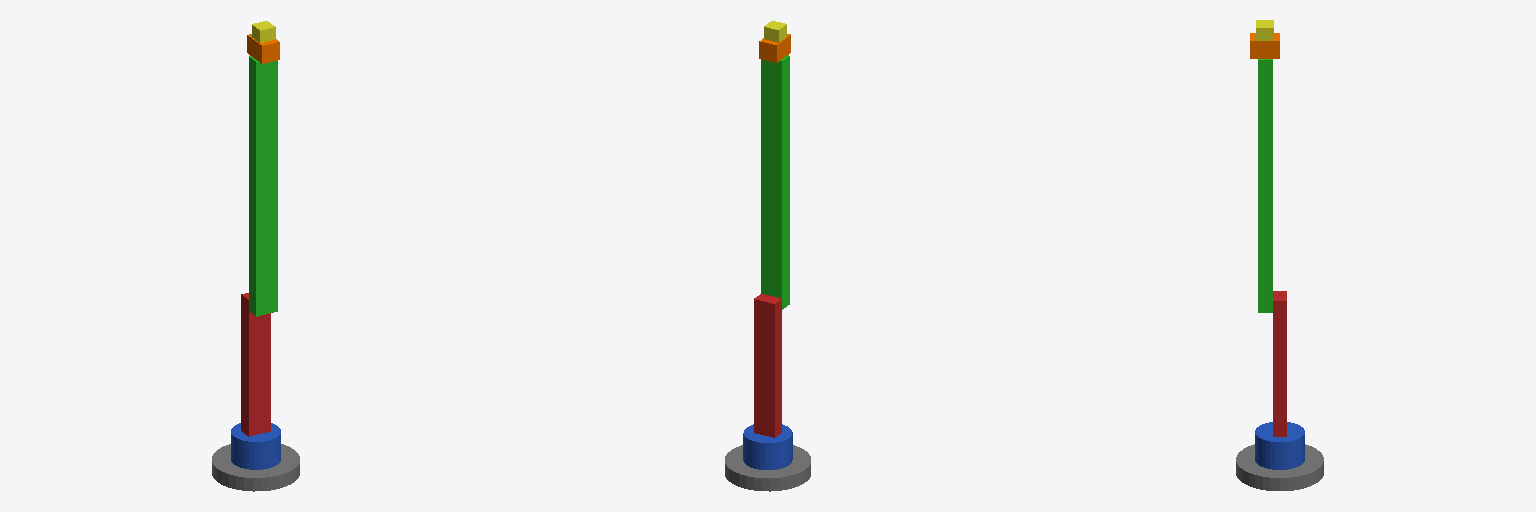
URDF robot description (arm):
<?xml version="1.0"?>
<robot name="arm">

  <material name="gray">
    <color rgba="0.5 0.5 0.5 1.0"/>
  </material>
  
  <material name="blue">
    <color rgba="0.2 0.4 0.8 1.0"/>
  </material>
  
  <material name="red">
    <color rgba="0.8 0.2 0.2 1.0"/>
  </material>
  
  <material name="green">
    <color rgba="0.2 0.8 0.2 1.0"/>
  </material>
  
  <material name="orange">
    <color rgba="1.0 0.5 0.0 1.0"/>
  </material>
  
  <material name="yellow">
    <color rgba="0.9 0.9 0.2 1.0"/>
  </material>
  
  <material name="purple">
    <color rgba="0.6 0.2 0.8 1.0"/>
  </material>

  <link name="plate">
    <visual>
      <geometry>
        <cylinder length="0.029471" radius="0.0885"/>
      </geometry>
      <material name="gray"/>
    </visual>
    <collision>
      <geometry>
        <cylinder length="0.029471" radius="0.0885"/>
      </geometry>
    </collision>
    <inertial>
      <mass value="0.5"/>
      <origin xyz="0 0 0" rpy="0 0 0"/>
      <inertia ixx="0.001" ixy="0.0" ixz="0.0" iyy="0.001" iyz="0.0" izz="0.001"/>
    </inertial>
  </link>

  <link name="shoulder_base">
    <visual>
      <geometry>
        <cylinder length="0.061043" radius="0.05"/>
      </geometry>
      <origin rpy="0 0 0" xyz="0 0 0.0305215"/>
      <material name="blue"/>
    </visual>
    <collision>
      <geometry>
        <cylinder length="0.061043" radius="0.05"/>
      </geometry>
      <origin rpy="0 0 0" xyz="0 0 0.0305215"/>
    </collision>
    <inertial>
      <mass value="0.8"/>
      <origin xyz="0 0 0.0305215" rpy="0 0 0"/>
      <inertia ixx="0.002" ixy="0.0" ixz="0.0" iyy="0.002" iyz="0.0" izz="0.001"/>
    </inertial>
  </link>

  <joint name="shoulder_pan" type="revolute">
    <parent link="plate"/>
    <child link="shoulder_base"/>
    <origin xyz="0 0 0.0147355" rpy="0 0 0"/>
    <axis xyz="0 0 1"/>
    <limit lower="-3.14" upper="3.14" effort="10.0" velocity="2.0"/>
    <dynamics damping="0.1" friction="0.05"/>
  </joint>

  <link name="shoulder_arm">
    <visual>
      <geometry>
        <box size="0.05 0.03 0.3"/>
      </geometry>
      <origin xyz="0 0 0.15" rpy="0 0 0"/>
      <material name="red"/>
    </visual>
    <collision>
      <geometry>
        <box size="0.05 0.03 0.3"/>
      </geometry>
      <origin xyz="0 0 0.15" rpy="0 0 0"/>
    </collision>
    <inertial>
      <mass value="0.6"/>
      <origin xyz="0 0 0.15" rpy="0 0 0"/>
      <inertia ixx="0.0046" ixy="0.0" ixz="0.0" iyy="0.0047" iyz="0.0" izz="0.0003"/>
    </inertial>
  </link>
  
  <joint name="shoulder_tilt" type="revolute">
    <parent link="shoulder_base"/>
    <child link="shoulder_arm"/>
    <origin xyz="0 0 0.061043" rpy="0 0 0"/>
    <axis xyz="0 1 0"/>
    <limit lower="-1.57" upper="1.57" effort="10.0" velocity="2.0"/>
    <dynamics damping="0.1" friction="0.05"/>
  </joint>

  <link name="forearm">
    <visual>
      <geometry>
        <box size="0.05 0.03 0.558"/>
      </geometry>
      <origin xyz="0 0 0.279" rpy="0 0 0"/>
      <material name="green"/>
    </visual>
    <collision>
      <geometry>
        <box size="0.05 0.03 0.558"/>
      </geometry>
      <origin xyz="0 0 0.279" rpy="0 0 0"/>
    </collision>
    <inertial>
      <mass value="0.5"/>
      <origin xyz="0 0 0.279" rpy="0 0 0"/>
      <inertia ixx="0.013" ixy="0.0" ixz="0.0" iyy="0.013" iyz="0.0" izz="0.0002"/>
    </inertial>
  </link>

  <joint name="elbow" type="revolute">
    <parent link="shoulder_arm"/>
    <child link="forearm"/>
    <origin xyz="0 -0.03 0.275" rpy="0 0 0"/>
    <axis xyz="0 1 0"/>
    <limit lower="-3.14" upper="3.14" effort="8.0" velocity="2.0"/>
    <dynamics damping="0.1" friction="0.05"/>
  </joint>

  <link name="forearm_tip">
    <visual>
        <geometry>
            <sphere radius="0.01"/>
        </geometry>
        <material name="purple"/>
    </visual>
    <collision>
        <geometry>
            <sphere radius="0.01"/>
        </geometry>
    </collision>
    <inertial>
        <mass value="0.001"/>
        <origin xyz="0 0 0" rpy="0 0 0"/>
        <inertia ixx="0.000001" ixy="0.0" ixz="0.0" iyy="0.000001" iyz="0.0" izz="0.000001"/>
    </inertial>
</link>

<joint name="forearm_tip_joint" type="fixed">
    <parent link="forearm"/>
    <child link="forearm_tip"/>
    <origin xyz="0 0 0.558" rpy="0 0 0"/>  <!-- At end of forearm -->
</joint>

  <link name="wrist_pitch_link">
    <visual>
      <geometry>
        <box size="0.04 0.06 0.04"/>
      </geometry>
      <origin xyz="0 0 0.02" rpy="0 0 0"/>
      <material name="orange"/>
    </visual>
    <collision>
      <geometry>
        <box size="0.04 0.06 0.04"/>
      </geometry>
      <origin xyz="0 0 0.02" rpy="0 0 0"/>
    </collision>
    <inertial>
      <mass value="0.2"/>
      <origin xyz="0 0 0.02" rpy="0 0 0"/>
      <inertia ixx="0.0001" ixy="0.0" ixz="0.0" iyy="0.00001" iyz="0.0" izz="0.0001"/>
    </inertial>
  </link>
  
  <joint name="wrist_pitch" type="revolute">
    <parent link="forearm"/>
    <child link="wrist_pitch_link"/>
    <origin xyz="0 0 0.558" rpy="0 0 0"/>
    <axis xyz="0 1 0"/>
    <limit lower="-1.57" upper="1.57" effort="5.0" velocity="3.0"/>
    <dynamics damping="0.05" friction="0.02"/>
  </joint>

  <link name="wrist_roll_link">
    <visual>
      <geometry>
        <box size="0.035 0.035 0.028"/>
      </geometry>
      <origin xyz="0 0 0.014" rpy="0 0 0"/>
      <material name="yellow"/>
    </visual>
    <collision>
      <geometry>
        <box size="0.035 0.035 0.028"/>
      </geometry>
      <origin xyz="0 0 0.014" rpy="0 0 0"/>
    </collision>
    <inertial>
      <mass value="0.15"/>
      <origin xyz="0 0 0.014" rpy="0 0 0"/>
      <inertia ixx="0.00005" ixy="0.0" ixz="0.0" iyy="0.00005" iyz="0.0" izz="0.00004"/>
    </inertial>
  </link>
  
  <joint name="wrist_roll" type="revolute">
    <parent link="wrist_pitch_link"/>
    <child link="wrist_roll_link"/>
    <origin xyz="0 0 0.04" rpy="0 0 0"/>
    <axis xyz="0 0 1"/>
    <limit lower="-3.14" upper="3.14" effort="5.0" velocity="3.0"/>
    <dynamics damping="0.05" friction="0.02"/>
  </joint>

  <link name="end_effector">
    <visual>
      <geometry>
        <cylinder length="0.01" radius="0.02"/>
      </geometry>
      <origin xyz="0 0 0.005" rpy="0 0 0"/>
      <material name="purple"/>
    </visual>
    <collision>
      <geometry>
        <cylinder length="0.01" radius="0.02"/>
      </geometry>
      <origin xyz="0 0 0.005" rpy="0 0 0"/>
    </collision>
    <inertial>
      <mass value="0.05"/>
      <origin xyz="0 0 0.005" rpy="0 0 0"/>
      <inertia ixx="0.00001" ixy="0.0" ixz="0.0" iyy="0.00001" iyz="0.0" izz="0.00001"/>
    </inertial>
  </link>
  
  <joint name="end_effector_mount" type="fixed">
    <parent link="wrist_pitch_link"/>
    <child link="end_effector"/>
    <origin xyz="0 0 0.028" rpy="0 0 0"/>
  </joint>

</robot>

--- Facts derived from the render (not from the file) ---
The picture shows the robot from 3 angles, left to right: view 1: azimuth 30°, elevation 25°; view 2: azimuth 150°, elevation 25°; view 3: azimuth 270°, elevation 25°; orthographic projection.
Robot: arm — 8 links, 7 joints (5 revolute, 2 fixed); root link plate; default pose: every joint at zero.
Links seen in each view (by area): view 1: forearm, shoulder_arm, plate, shoulder_base, wrist_pitch_link; view 2: forearm, shoulder_arm, plate, shoulder_base, wrist_pitch_link; view 3: forearm, plate, shoulder_arm, shoulder_base, wrist_pitch_link.
Boxes of the visible links, x1,y1,x2,y2 form: forearm: (249, 56, 277, 316); shoulder_arm: (241, 293, 270, 436); plate: (212, 444, 299, 491); shoulder_base: (231, 423, 280, 469); wrist_pitch_link: (247, 34, 279, 63); forearm: (761, 55, 789, 309); shoulder_arm: (754, 294, 781, 437); plate: (725, 445, 810, 491); shoulder_base: (743, 424, 792, 469); wrist_pitch_link: (759, 34, 790, 62); forearm: (1258, 59, 1272, 312); plate: (1236, 444, 1323, 490); shoulder_arm: (1273, 291, 1286, 436); shoulder_base: (1255, 422, 1304, 469); wrist_pitch_link: (1250, 33, 1279, 58).
Bounding box of the posed robot: 0.177 × 0.177 × 0.9915 m (x, y, z).
Geometry: primitives only (box / cylinder / sphere), no mesh files.